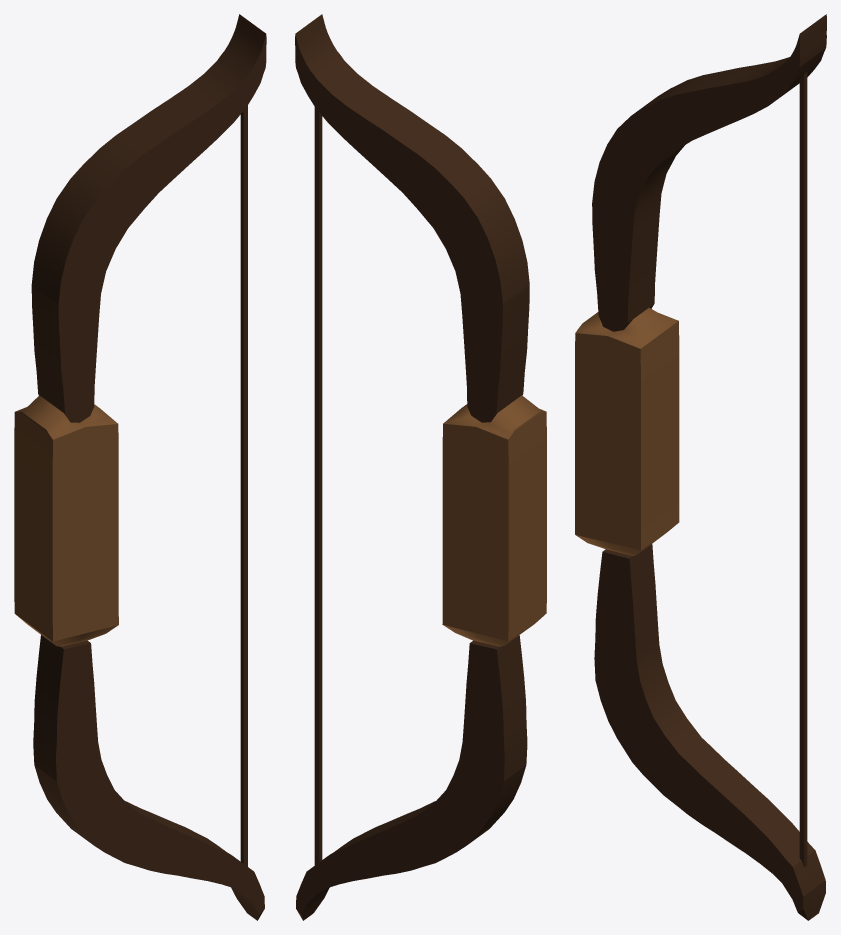
The model's file is Bow.fbx.
The picture shows the model from 3 angles, left to right: view 1: azimuth 30°, elevation 25°; view 2: azimuth 150°, elevation 25°; view 3: azimuth 330°, elevation 25°; orthographic projection.
Parts seen in each view (by area): view 1: Cube.002, Cube, Cube.001, Cube.003; view 2: Cube.002, Cube, Cube.001, Cube.003; view 3: Cube.001, Cube, Cube.002, Cube.003.
Boxes of the visible parts, <box> form: Cube.002: <box>31,14,266,422</box>; Cube: <box>14,395,118,646</box>; Cube.001: <box>33,635,264,920</box>; Cube.003: <box>240,105,247,866</box>; Cube.002: <box>295,14,529,422</box>; Cube: <box>442,395,546,646</box>; Cube.001: <box>296,635,527,920</box>; Cube.003: <box>314,107,322,865</box>; Cube.001: <box>594,544,825,920</box>; Cube: <box>575,307,679,555</box>; Cube.002: <box>592,14,826,331</box>; Cube.003: <box>799,72,807,867</box>.
Bounding box in the file's own units: 26.79 × 104 × 8.08.
